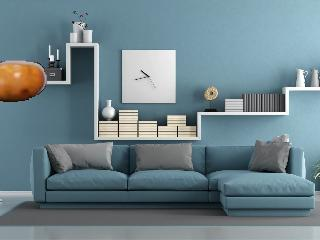potato: (0, 61, 47, 101)
